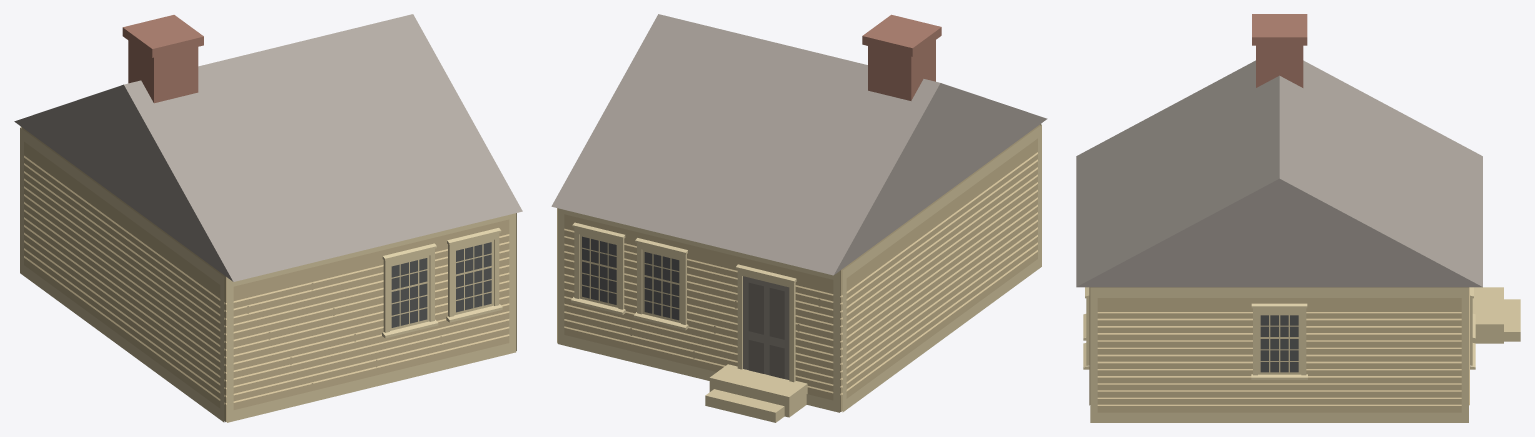
Rendered from recon_1835_west_042__inferred_1835.glb.
3 renders of one model, left to right at view 1: azimuth 30°, elevation 25°; view 2: azimuth 150°, elevation 25°; view 3: azimuth 270°, elevation 25°, orthographic. The views are drawn at different scales.
Parts seen in each view (by area): view 1: recon_1835_west_042__inferred_1835; view 2: recon_1835_west_042__inferred_1835; view 3: recon_1835_west_042__inferred_1835.
Boxes of the visible parts, x1,y1,x2,y2 form: recon_1835_west_042__inferred_1835: (14, 14, 522, 422); recon_1835_west_042__inferred_1835: (551, 14, 1047, 422); recon_1835_west_042__inferred_1835: (1076, 14, 1520, 422).
Size of the model in its own units: 5.64 by 5.54 by 7.88.
